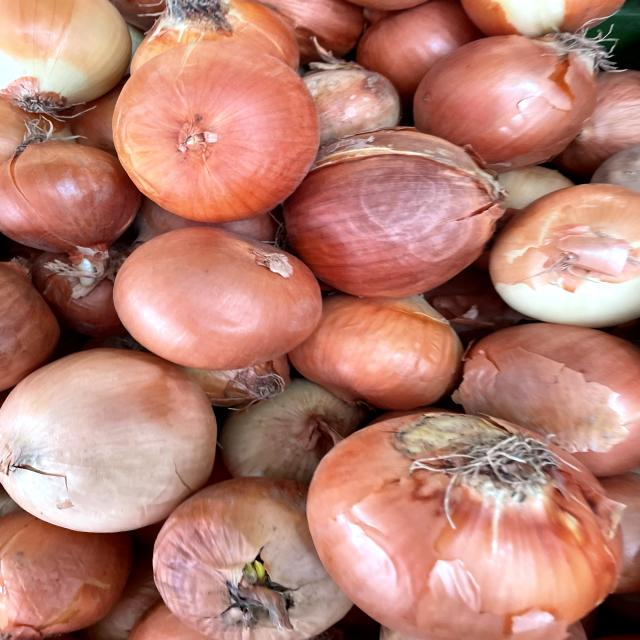onion: (303, 399, 624, 640), (101, 37, 324, 219), (105, 223, 344, 369), (416, 18, 624, 173)
